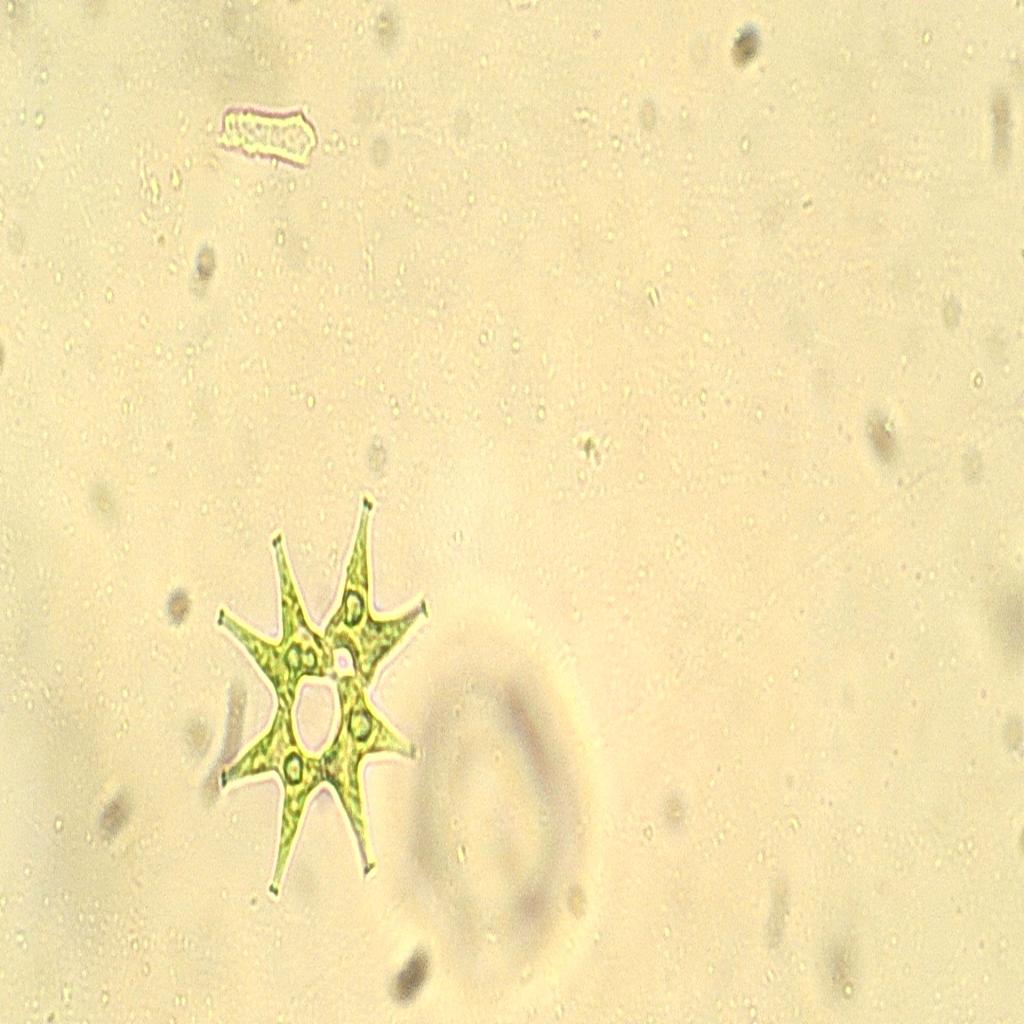Pediastrum_75FO: (204, 491, 435, 910)
